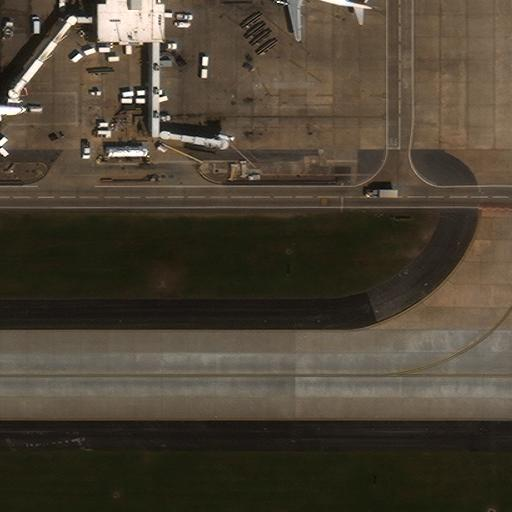Medium Civil Transport: (263, 0, 371, 42)
